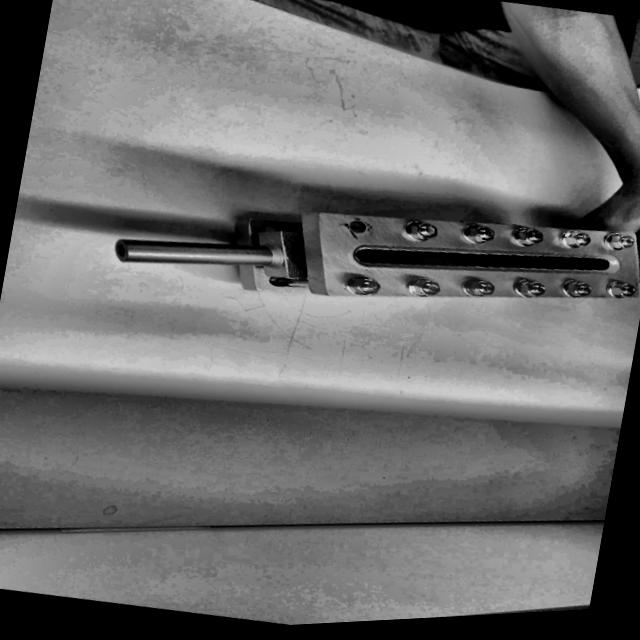ShuiWeiQi_11: (95, 115, 640, 411)
